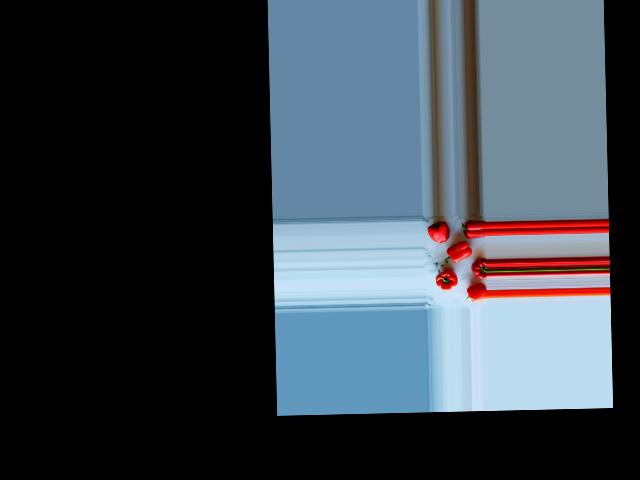bell_pepper: (470, 257, 486, 278)
